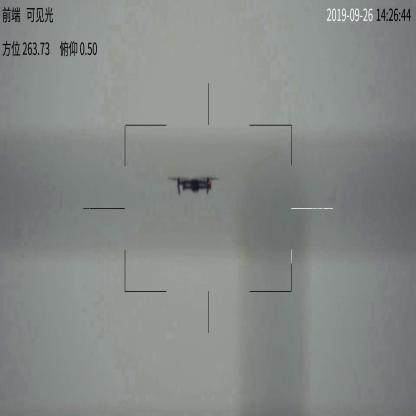uav: (173, 173, 218, 197)
